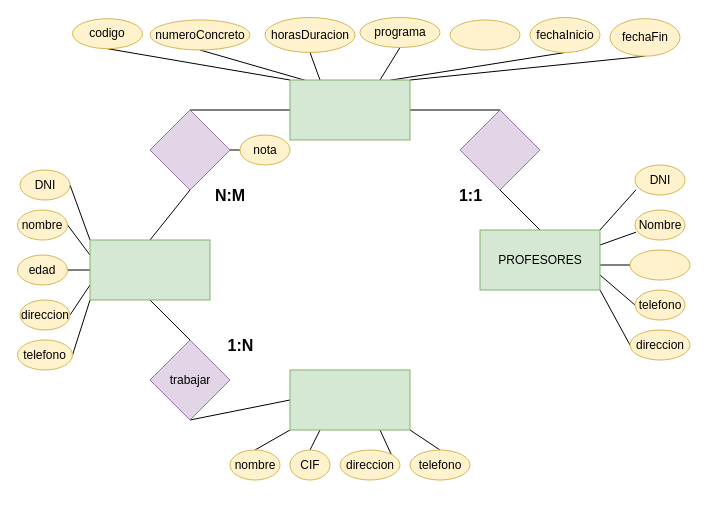
Image size: 708x506. Some labels were removed from this diagram. The shapes that lost their labels are listed below. From the top down, each one's centre as x and y in pixels, then its label:
[484,34]: titulo
[349,109]: CURSOS
[189,149]: cursar
[499,149]: impartir
[149,269]: ALUMNOS
[659,264]: Apellidos
[349,399]: EMPRESA
